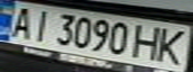0: (106, 19, 133, 56), (69, 15, 93, 51)
3: (51, 11, 78, 47)
9: (87, 17, 112, 53)
A: (3, 3, 39, 39)
H: (130, 22, 166, 61)
I: (24, 7, 57, 43)
K: (151, 26, 190, 66)
